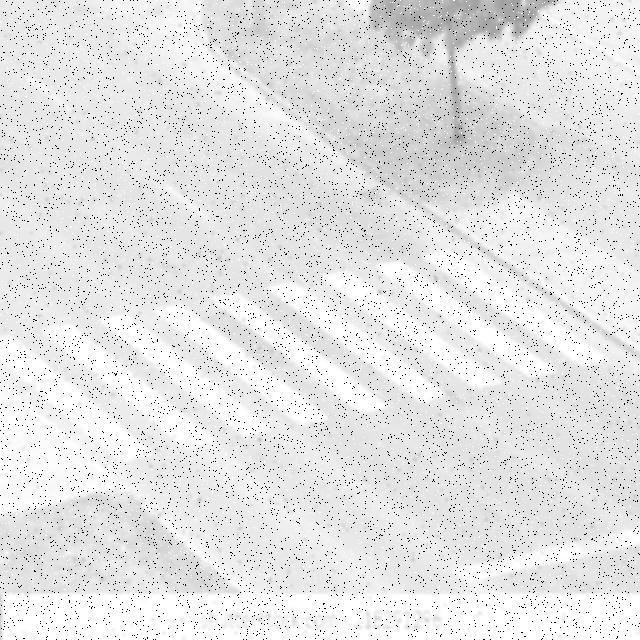Pedestrian crosswalk: (0, 240, 612, 464)
